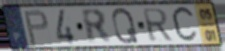4: (55, 7, 77, 46)
C: (170, 4, 200, 46)
P: (22, 8, 50, 46)
Q: (111, 6, 140, 45)
R: (79, 8, 114, 46), (141, 7, 175, 43)
